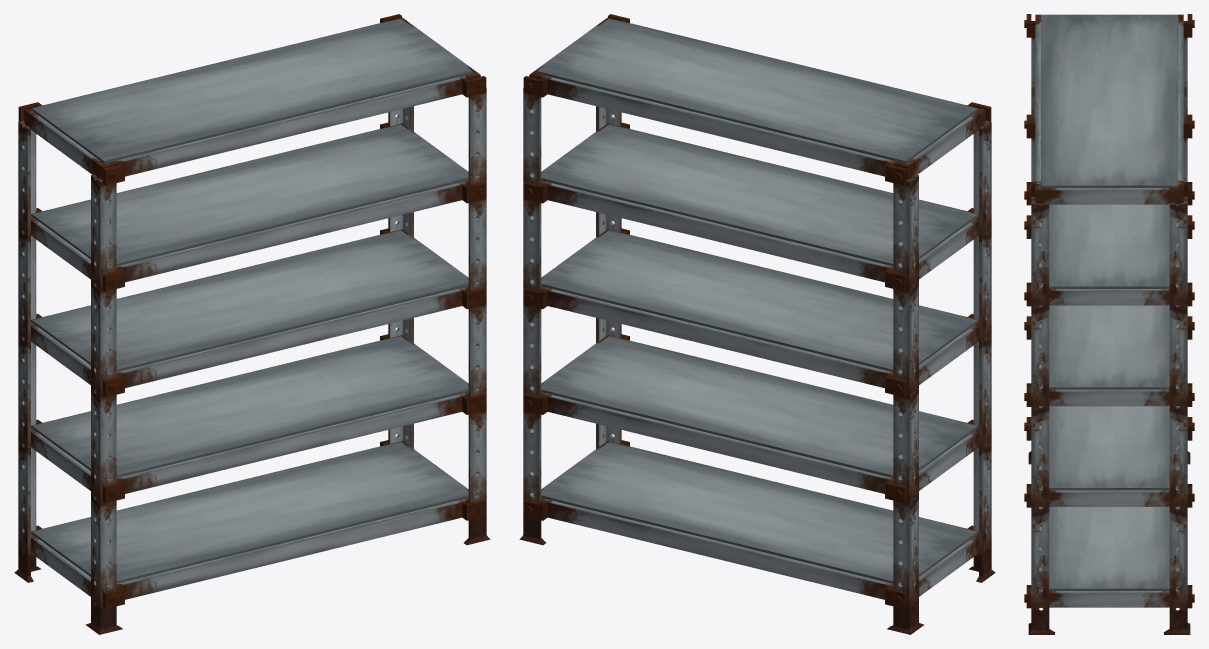
The model's file is SHELF 5 .fbx.
The picture shows the model from 3 angles, left to right: view 1: azimuth 30°, elevation 25°; view 2: azimuth 150°, elevation 25°; view 3: azimuth 270°, elevation 25°; orthographic projection. The views are drawn at different scales.
Visible parts, largest first — view 1: Shelf, ShelfStrut, ShelfFoot; view 2: Shelf, ShelfStrut, ShelfFoot; view 3: Shelf, ShelfStrut, ShelfFoot.
Part boxes in pixels (x1,y1,x2,y2): Shelf: [18, 14, 486, 608]; ShelfStrut: [18, 88, 486, 607]; ShelfFoot: [14, 514, 490, 634]; Shelf: [523, 14, 991, 608]; ShelfStrut: [523, 88, 991, 607]; ShelfFoot: [519, 514, 995, 634]; Shelf: [1024, 14, 1194, 608]; ShelfStrut: [1031, 37, 1187, 609]; ShelfFoot: [1028, 451, 1190, 634].
Bounding box in the file's own units: 384 × 437 × 152.
